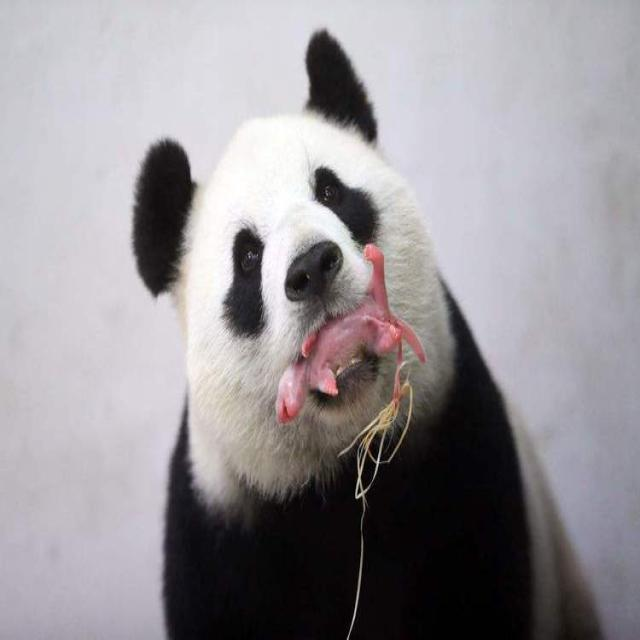panda: (132, 28, 610, 640)
